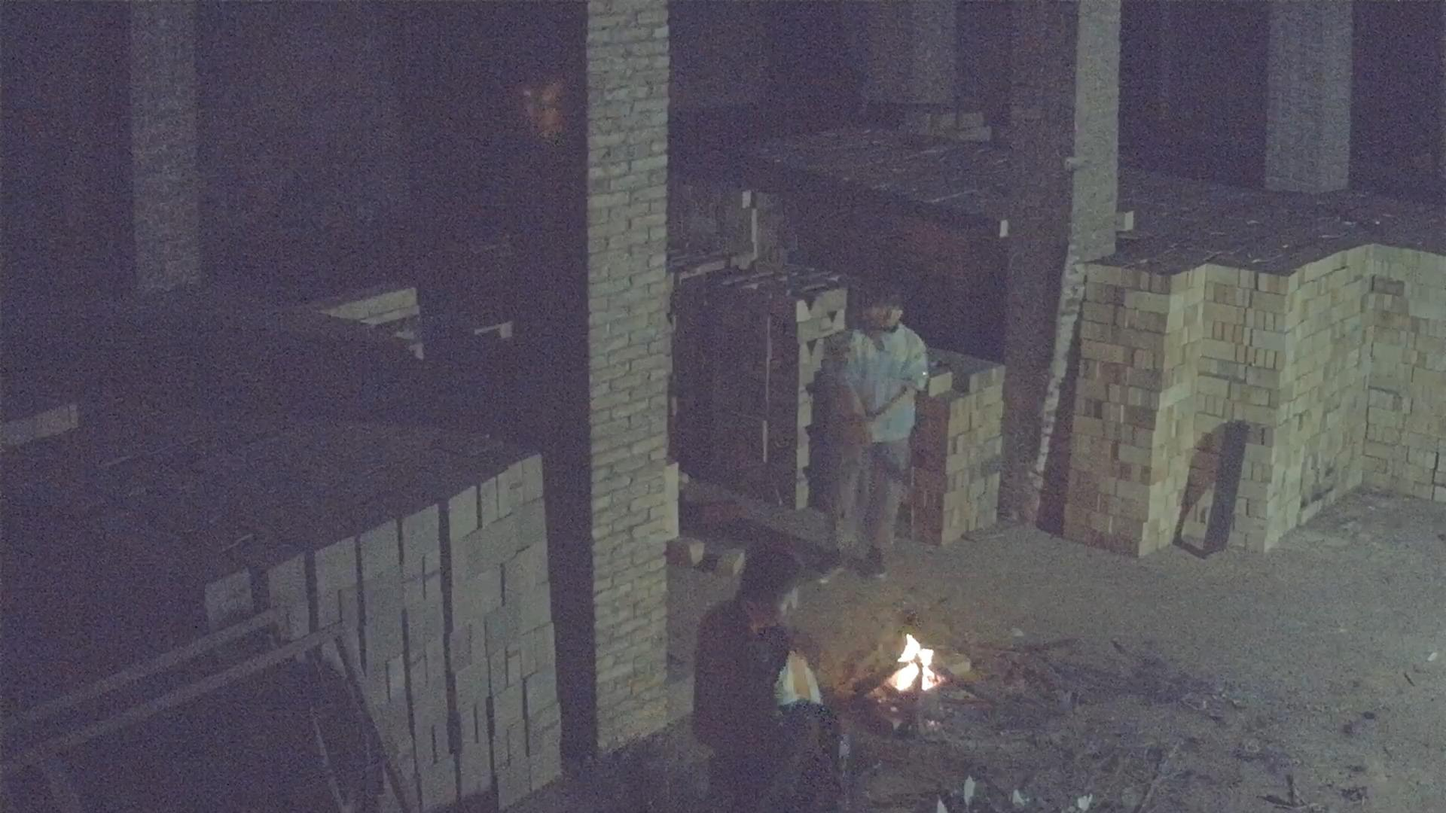fire: (887, 635, 940, 693)
